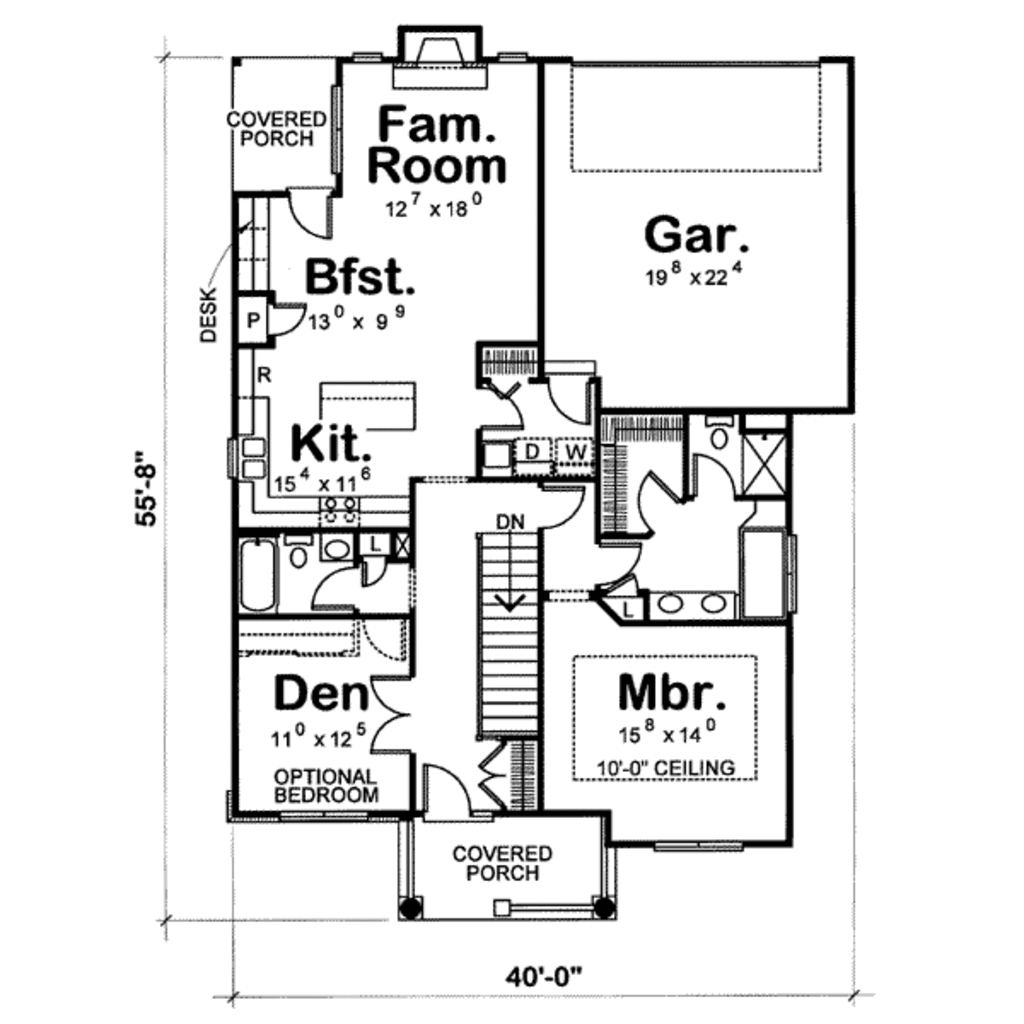door: (361, 671, 425, 762), (411, 758, 479, 830), (282, 184, 353, 247), (544, 366, 598, 441), (634, 462, 685, 535), (587, 536, 641, 597), (473, 378, 531, 428), (536, 479, 592, 530), (476, 738, 514, 811), (361, 617, 414, 666), (306, 570, 369, 609), (696, 457, 734, 509), (258, 306, 312, 341), (358, 558, 390, 585)
large_sink: (701, 409, 731, 452), (280, 536, 311, 571)
small_sink: (649, 593, 736, 624), (315, 536, 353, 562)
stairs: (465, 528, 560, 741)
tub: (736, 525, 793, 628), (233, 538, 282, 616)
twin_sink: (239, 435, 273, 482)
window: (647, 833, 742, 858), (325, 81, 350, 173)
